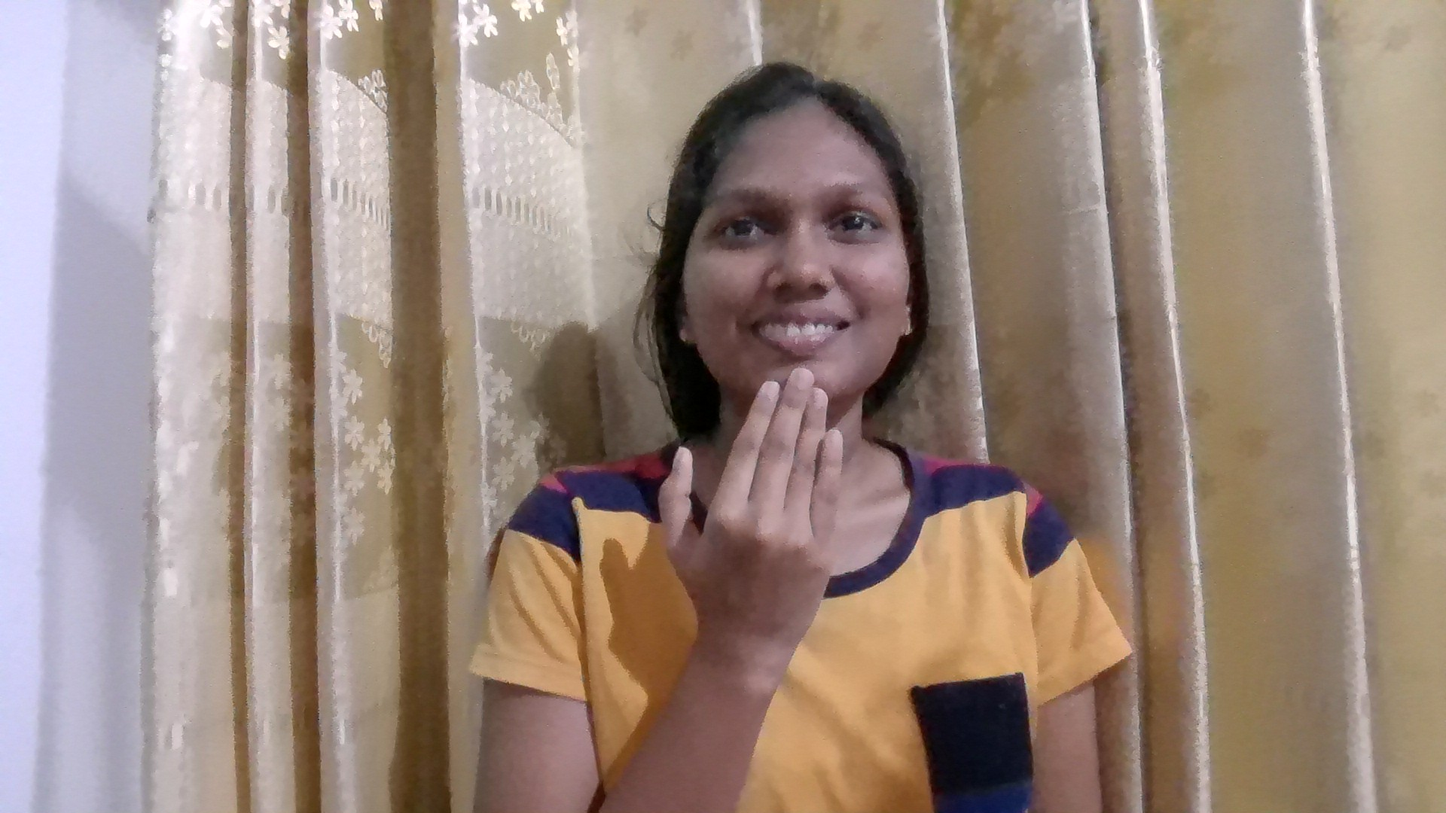Thank You: (572, 344, 954, 718)
